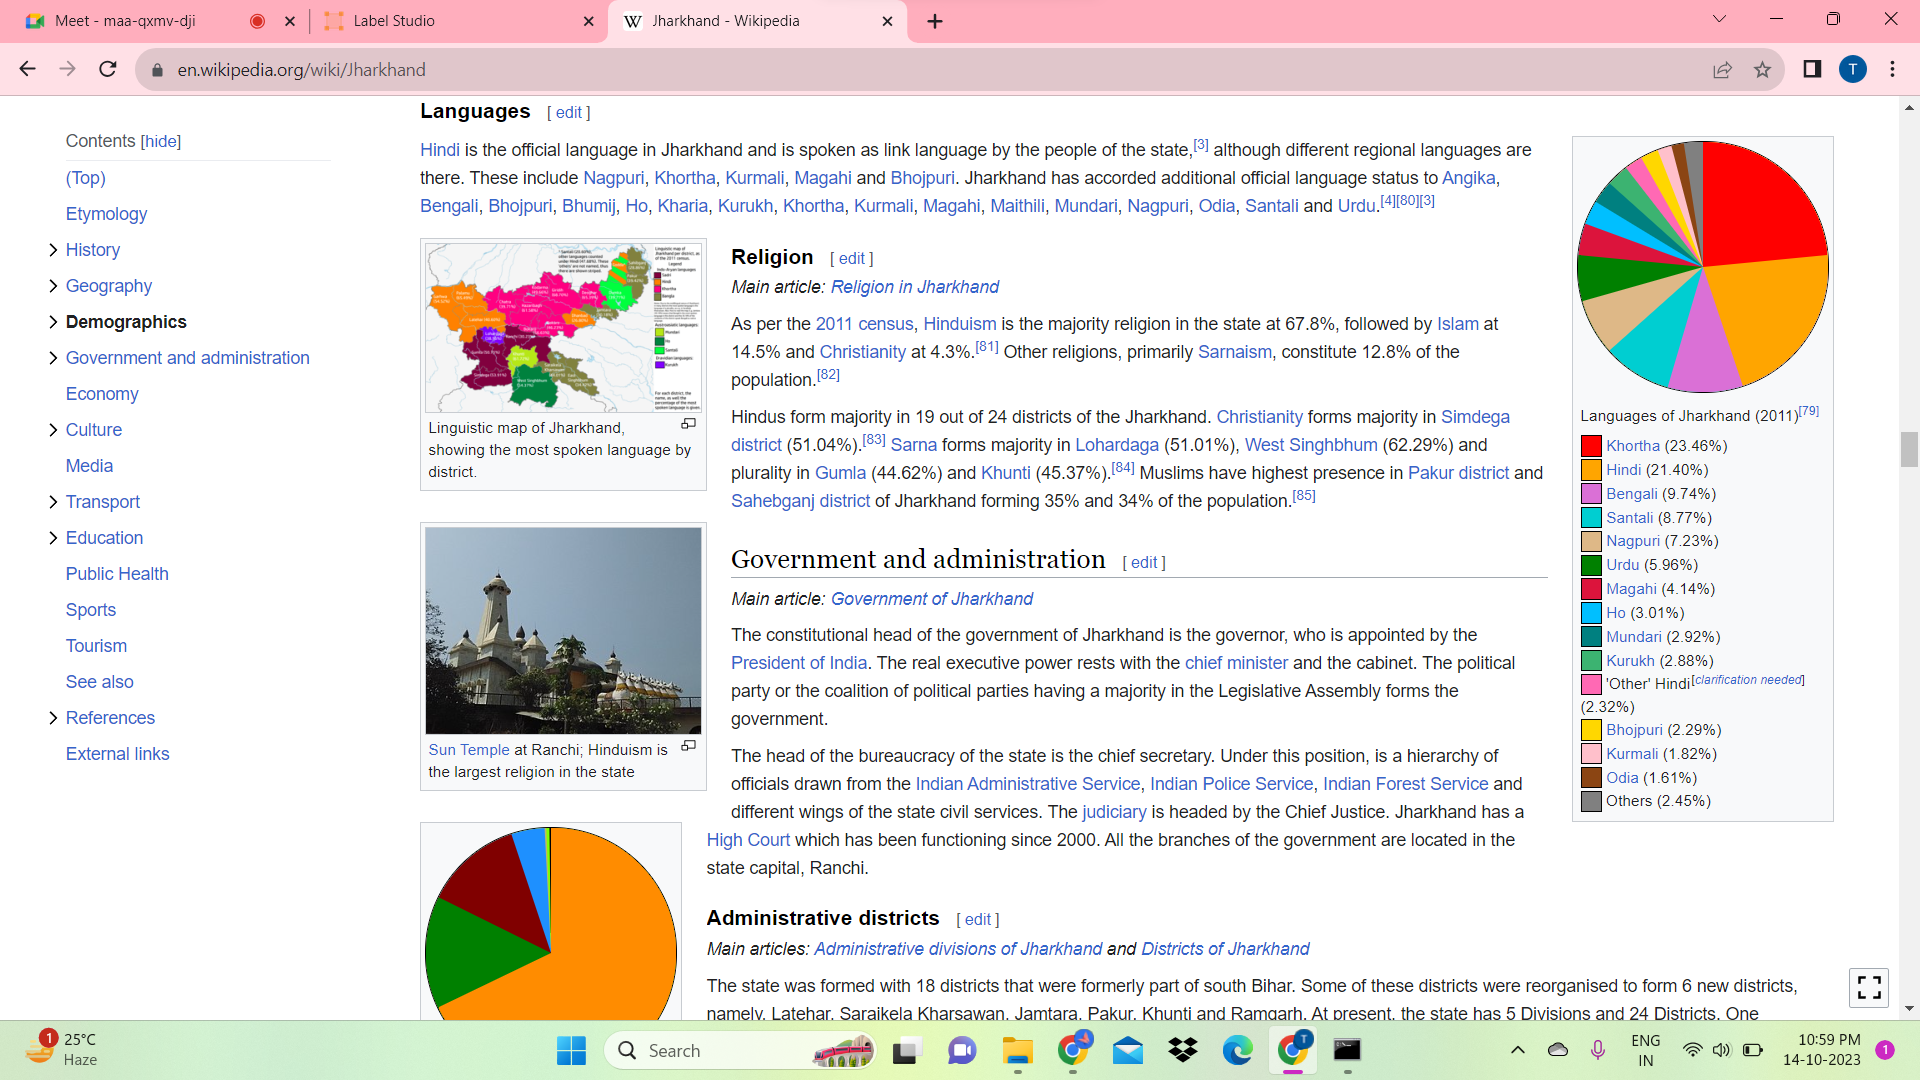Image: (1561, 132, 1851, 394), (411, 509, 715, 737), (397, 798, 684, 1022), (410, 235, 723, 418)
Paragraph: (695, 899, 1812, 1029), (703, 740, 1540, 880), (729, 401, 1551, 520), (404, 136, 1560, 216), (723, 620, 1516, 725), (732, 306, 1510, 393), (58, 196, 330, 376), (51, 553, 235, 774), (51, 382, 220, 550), (732, 233, 1005, 302), (725, 529, 1120, 576), (54, 119, 223, 194), (732, 587, 1042, 615), (410, 98, 624, 129)
